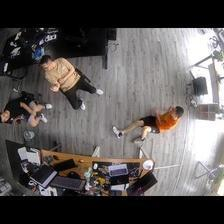fall: (110, 105, 185, 142)
